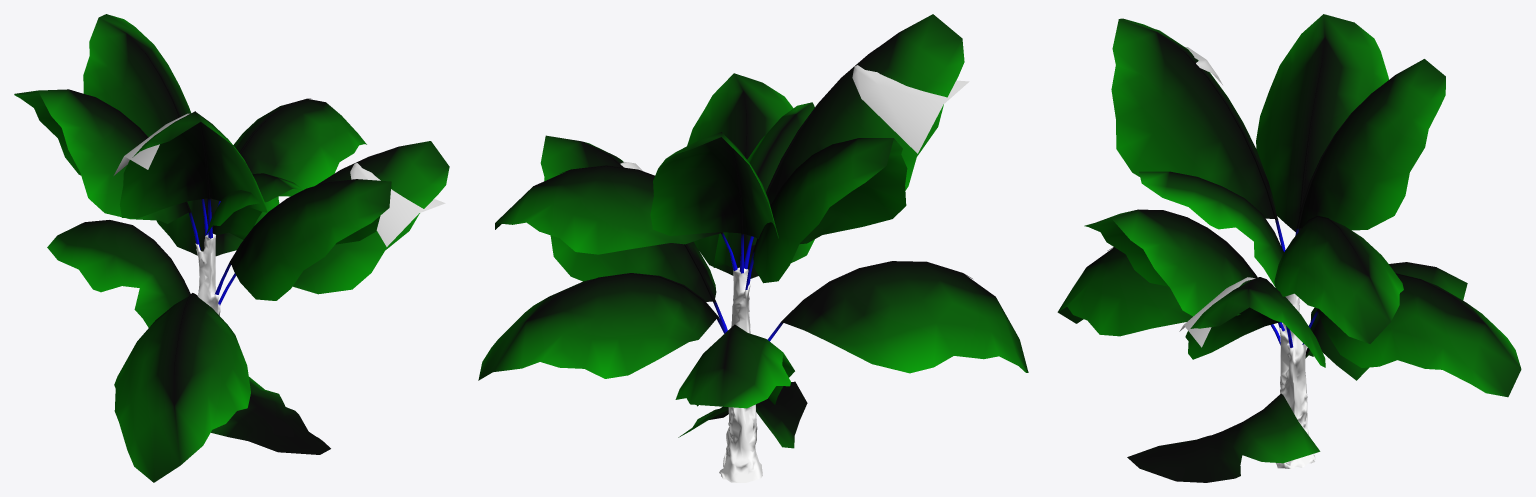
File: CoconutPalmTree03_afsTREE_xlprl06_xlod00.fbx
3 views of the same model, side by side, from view 1: azimuth 30°, elevation 25°; view 2: azimuth 150°, elevation 25°; view 3: azimuth 270°, elevation 25° (orthographic). The views are drawn at different scales.
Parts seen in each view (by area): view 1: PalmBranch01_xw03_xt05_xlp00, PalmBranch01_xw04_xt06_xlp00, PalmBranch01_xw08_xt06_xlp00, PalmBranch01_xw07_xt07_xlp00, DeadPalmBranch_xw02_xt03_xlp02_xp03, PalmBranch01_xw09_xt08_xlp00, PalmBranch01_xw06_xt06_xlp00, PalmBranch01_xw06_xt05_xlp00, DeadPalmBranch_xw00_xt00_xlp00, DeadPalmBranch_xw04_xt08_xlp05_xp04, PalmBranch01_xw04_xt06_xlp00.001, PalmBlade02_bent_right_xw03_xt05_xlp05.001 (+2 smaller); view 2: PalmBranch01_xw03_xt05_xlp00, PalmBranch01_xw04_xt06_xlp00.001, PalmBranch01_xw07_xt07_xlp00, PalmBranch01_xw08_xt06_xlp00, PalmBranch01_xw06_xt06_xlp00, PalmBranch01_xw09_xt08_xlp00, PalmBranch01_xw06_xt05_xlp00, DeadPalmBranch_xw02_xt03_xlp02_xp03, PalmBranch01_xw04_xt06_xlp00, PalmBlade02_bent_right_xw03_xt05_xlp05, trunk_CoconutPalmTree03_xw04_xt03_xlp05, DeadPalmBranch_xw04_xt08_xlp05_xp04 (+1 smaller); view 3: PalmBranch01_xw08_xt06_xlp00, PalmBranch01_xw07_xt07_xlp00, PalmBranch01_xw09_xt08_xlp00, PalmBranch01_xw04_xt06_xlp00.001, PalmBranch01_xw06_xt06_xlp00, PalmBranch01_xw04_xt06_xlp00, DeadPalmBranch_xw00_xt00_xlp00, PalmBranch01_xw03_xt05_xlp00, PalmBranch01_xw06_xt05_xlp00, DeadPalmBranch_xw04_xt08_xlp05_xp04, trunk_CoconutPalmTree03_xw04_xt03_xlp05, DeadPalmBranch_xw02_xt03_xlp02_xp03 (+2 smaller).
Part boxes in pixels (x1=…): PalmBranch01_xw03_xt05_xlp00: x1=114, y1=294, x2=250, y2=482; PalmBranch01_xw04_xt06_xlp00: x1=231, y1=179, x2=392, y2=300; PalmBranch01_xw08_xt06_xlp00: x1=119, y1=111, x2=267, y2=218; PalmBranch01_xw07_xt07_xlp00: x1=14, y1=89, x2=188, y2=223; DeadPalmBranch_xw02_xt03_xlp02_xp03: x1=47, y1=220, x2=190, y2=327; PalmBranch01_xw09_xt08_xlp00: x1=83, y1=14, x2=190, y2=137; PalmBranch01_xw06_xt06_xlp00: x1=233, y1=99, x2=366, y2=196; PalmBranch01_xw06_xt05_xlp00: x1=293, y1=141, x2=449, y2=294; DeadPalmBranch_xw00_xt00_xlp00: x1=211, y1=377, x2=330, y2=454; DeadPalmBranch_xw04_xt08_xlp05_xp04: x1=206, y1=173, x2=303, y2=239; PalmBranch01_xw04_xt06_xlp00.001: x1=156, y1=196, x2=279, y2=256; PalmBlade02_bent_right_xw03_xt05_xlp05.001: x1=350, y1=163, x2=445, y2=246; PalmBranch01_xw03_xt05_xlp00: x1=784, y1=262, x2=1028, y2=373; PalmBranch01_xw04_xt06_xlp00.001: x1=478, y1=274, x2=716, y2=380; PalmBranch01_xw07_xt07_xlp00: x1=753, y1=138, x2=907, y2=283; PalmBranch01_xw08_xt06_xlp00: x1=767, y1=14, x2=964, y2=205; PalmBranch01_xw06_xt06_xlp00: x1=495, y1=166, x2=720, y2=254; PalmBranch01_xw09_xt08_xlp00: x1=650, y1=132, x2=778, y2=238; PalmBranch01_xw06_xt05_xlp00: x1=540, y1=135, x2=716, y2=301; DeadPalmBranch_xw02_xt03_xlp02_xp03: x1=675, y1=324, x2=794, y2=408; PalmBranch01_xw04_xt06_xlp00: x1=687, y1=73, x2=814, y2=278; PalmBlade02_bent_right_xw03_xt05_xlp05: x1=852, y1=65, x2=969, y2=153; trunk_CoconutPalmTree03_xw04_xt03_xlp05: x1=719, y1=267, x2=762, y2=482; DeadPalmBranch_xw04_xt08_xlp05_xp04: x1=713, y1=102, x2=814, y2=267; PalmBranch01_xw08_xt06_xlp00: x1=1111, y1=18, x2=1275, y2=218; PalmBranch01_xw07_xt07_xlp00: x1=1256, y1=14, x2=1388, y2=232; PalmBranch01_xw09_xt08_xlp00: x1=1299, y1=59, x2=1445, y2=230; PalmBranch01_xw04_xt06_xlp00.001: x1=1318, y1=274, x2=1521, y2=397; PalmBranch01_xw06_xt06_xlp00: x1=1274, y1=217, x2=1403, y2=343; PalmBranch01_xw04_xt06_xlp00: x1=1084, y1=209, x2=1255, y2=316; DeadPalmBranch_xw00_xt00_xlp00: x1=1127, y1=393, x2=1320, y2=482; PalmBranch01_xw03_xt05_xlp00: x1=1057, y1=247, x2=1192, y2=336; PalmBranch01_xw06_xt05_xlp00: x1=1185, y1=277, x2=1325, y2=367; DeadPalmBranch_xw04_xt08_xlp05_xp04: x1=1139, y1=171, x2=1283, y2=286; trunk_CoconutPalmTree03_xw04_xt03_xlp05: x1=1276, y1=293, x2=1315, y2=468; DeadPalmBranch_xw02_xt03_xlp02_xp03: x1=1305, y1=262, x2=1467, y2=380.
Size of what is drawn, in the model's own units: 5.79 by 6.06 by 5.69.
